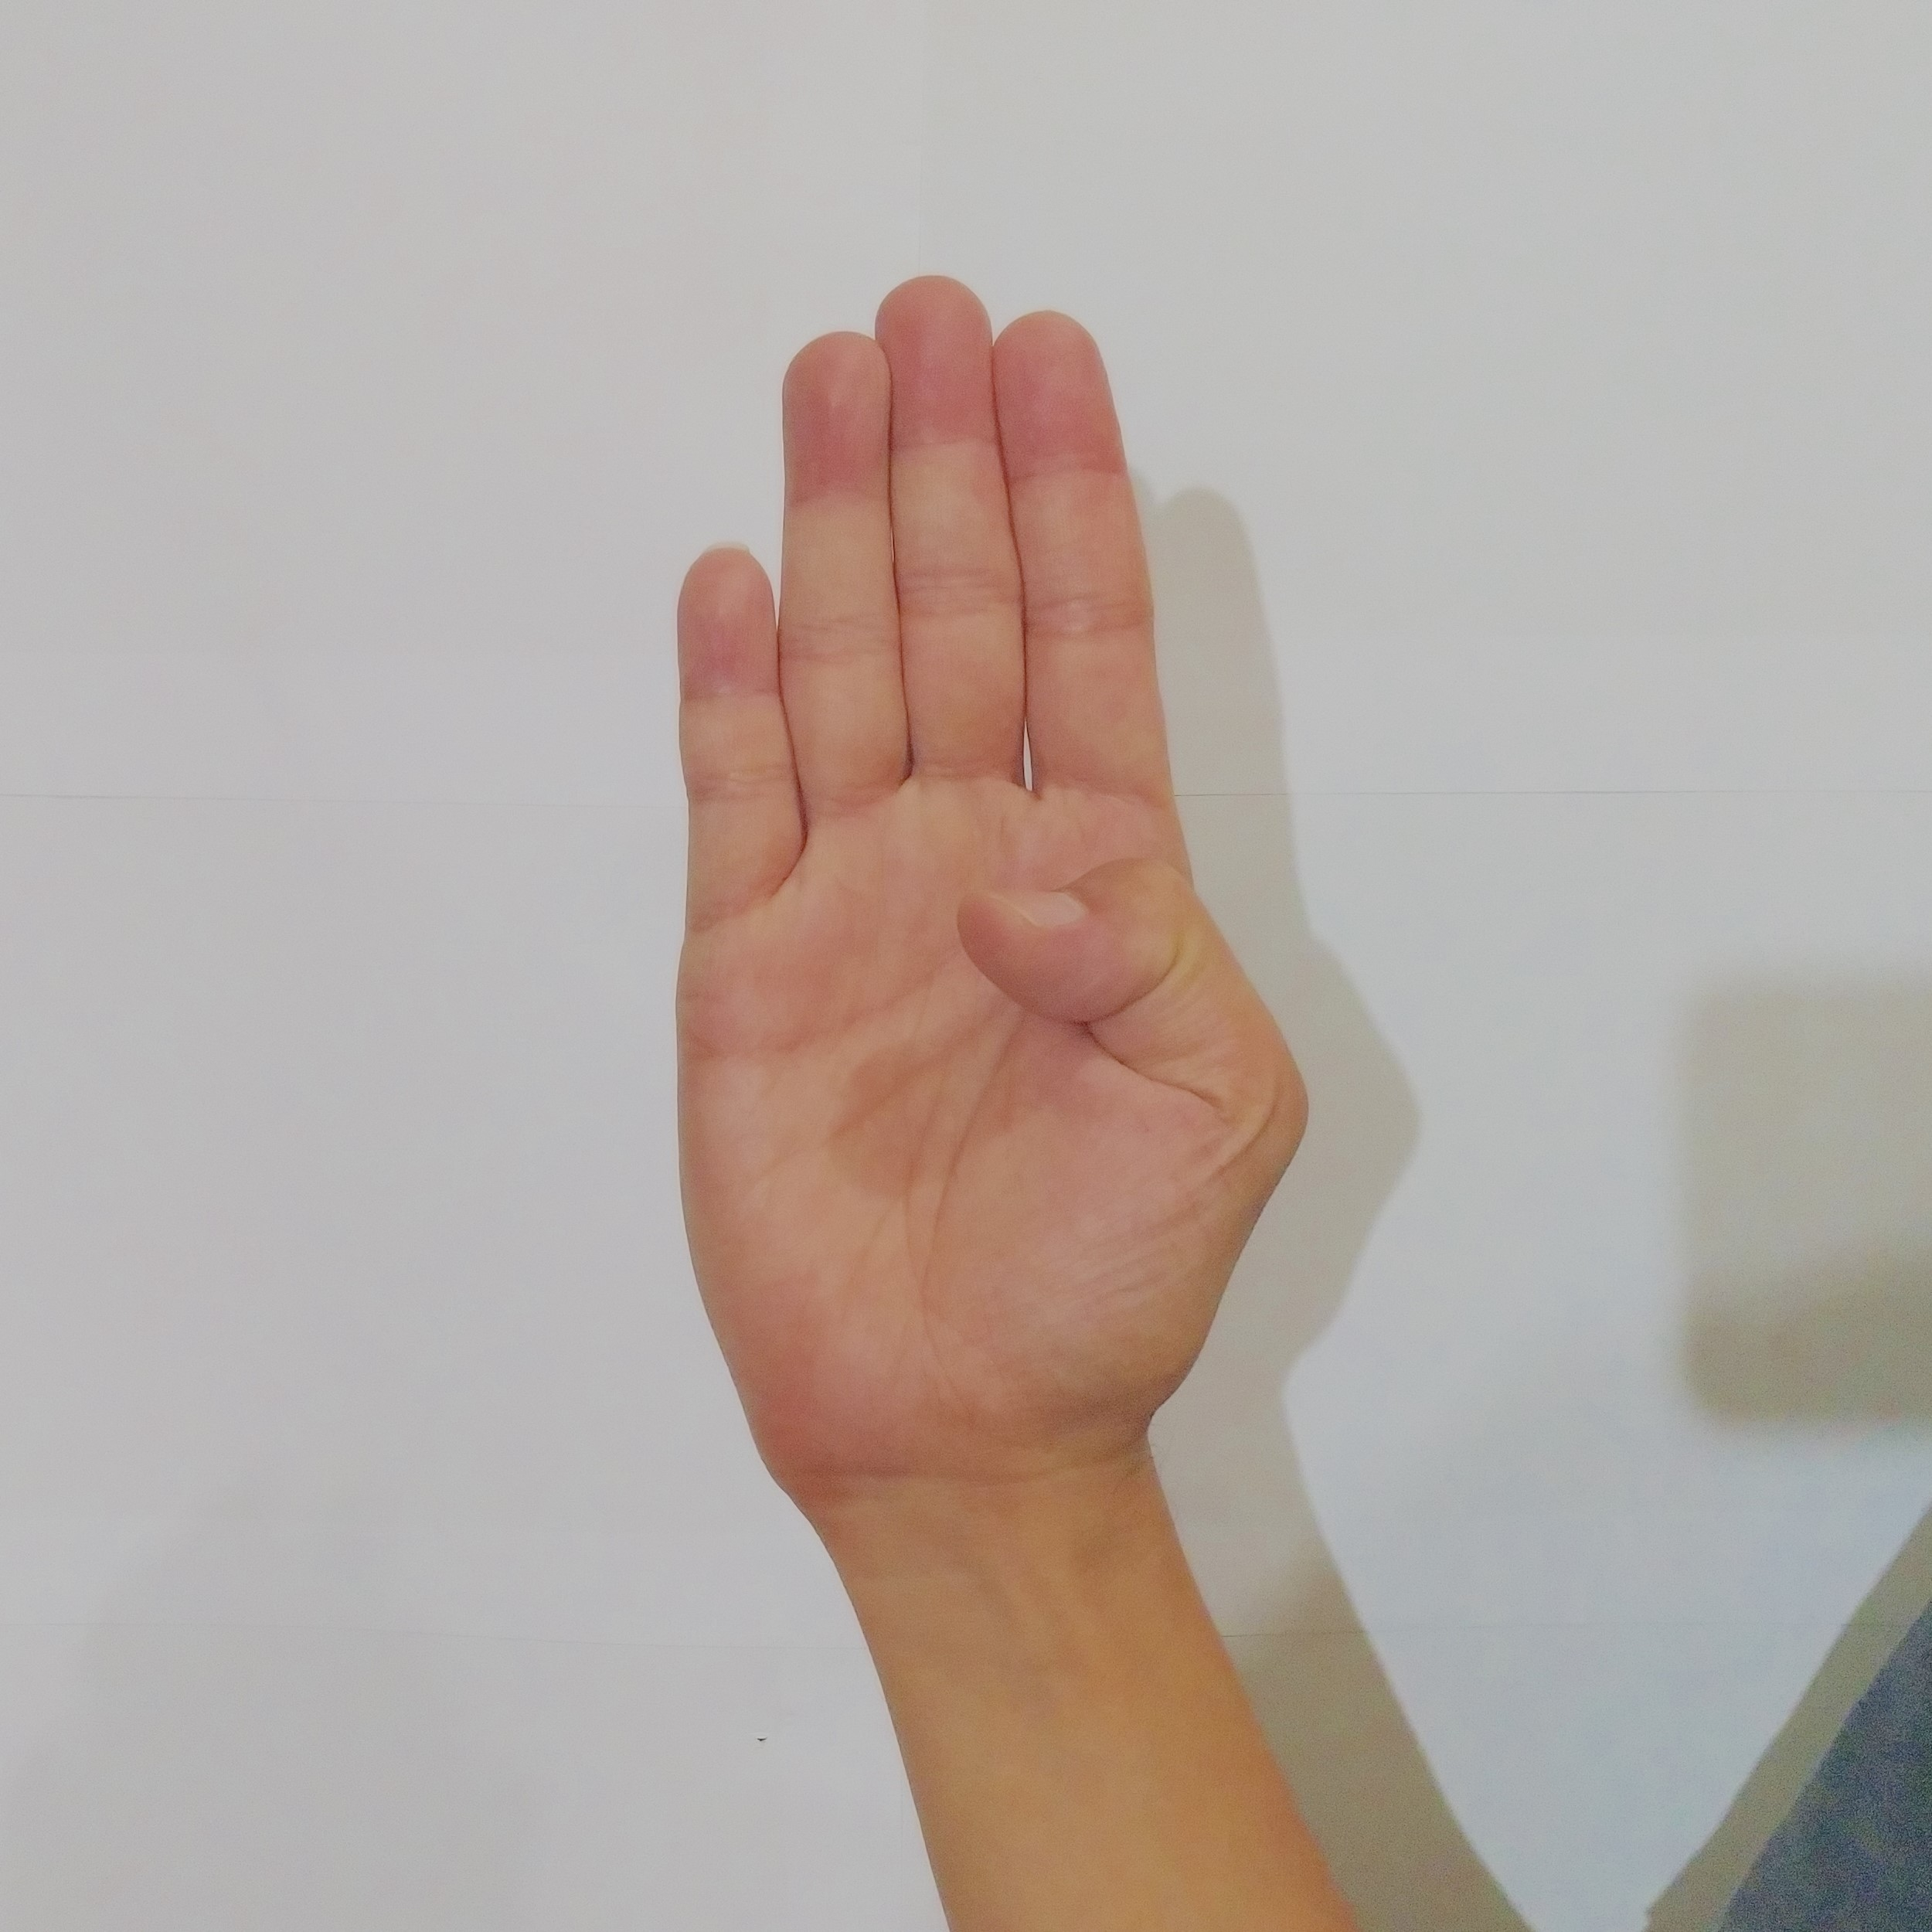B: (637, 253, 1332, 1490)
